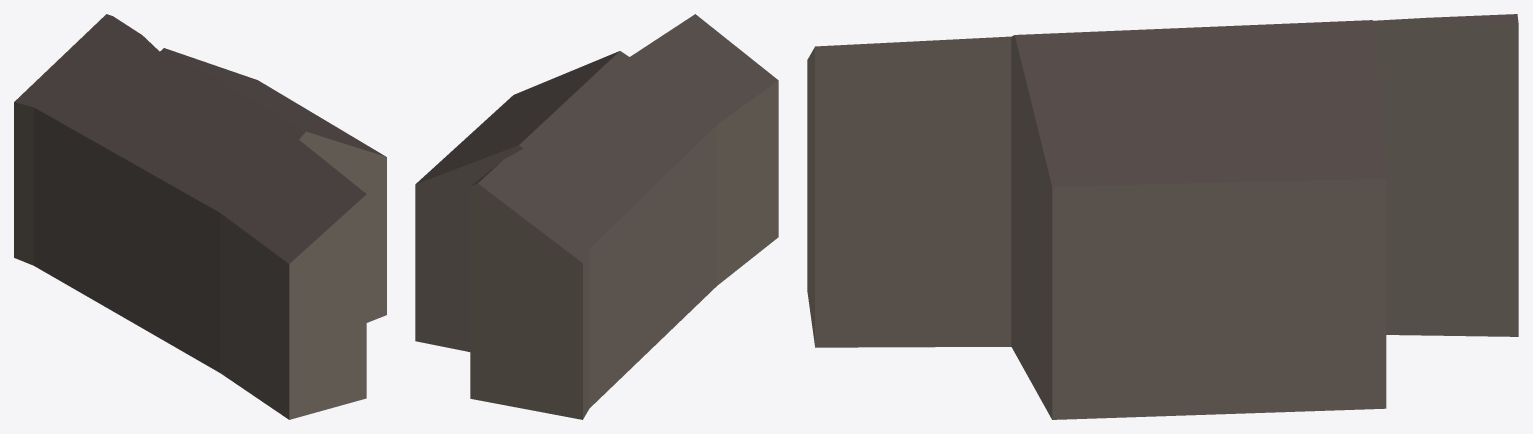
The picture shows the model from 3 angles, left to right: view 1: azimuth 30°, elevation 25°; view 2: azimuth 150°, elevation 25°; view 3: azimuth 270°, elevation 25°; orthographic projection. The views are drawn at different scales.
Parts seen in each view (by area): view 1: HP-w1512965861; view 2: HP-w1512965861; view 3: HP-w1512965861.
Part boxes in pixels (box(x1,y1,x2,y2)): HP-w1512965861: box(14, 14, 386, 419); HP-w1512965861: box(415, 14, 778, 419); HP-w1512965861: box(807, 14, 1518, 419).
Size of the model in its own units: 8.9 by 8.3 by 16.84.
